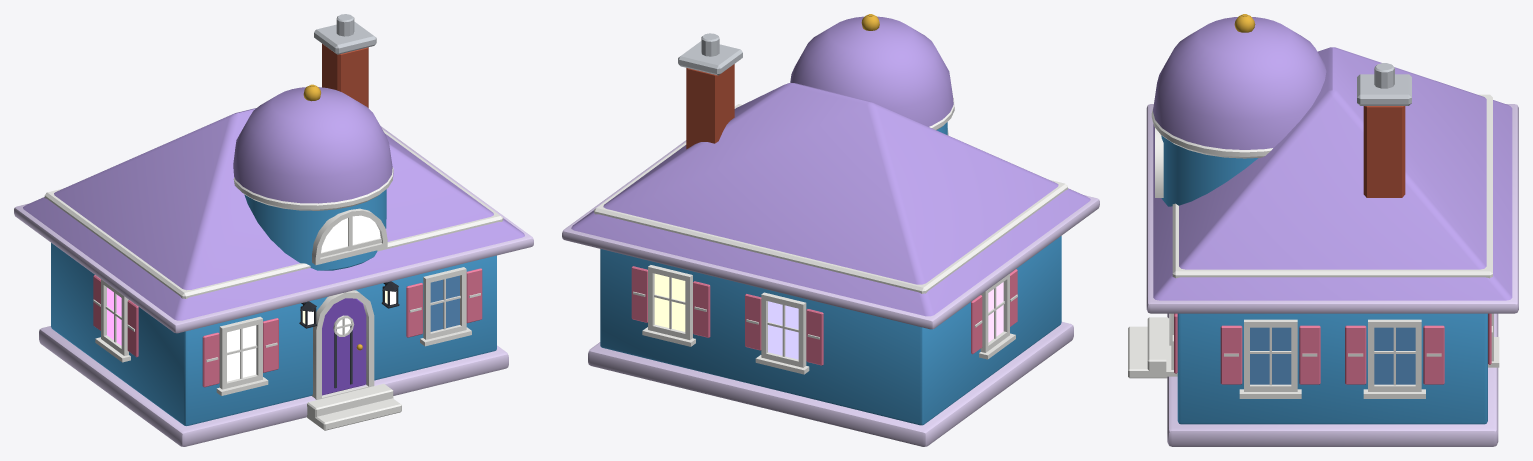
Rendered from casinha_cupula_lilas.glb.
3 renders of one model, left to right at view 1: azimuth 30°, elevation 25°; view 2: azimuth 150°, elevation 25°; view 3: azimuth 270°, elevation 25°, orthographic. The views are drawn at different scales.
Visible parts, largest first — view 1: casinha_cupula_lilas; view 2: casinha_cupula_lilas; view 3: casinha_cupula_lilas.
Part boxes in pixels (x1,y1,x2,y2): casinha_cupula_lilas: (14, 14, 533, 446); casinha_cupula_lilas: (562, 14, 1099, 446); casinha_cupula_lilas: (1128, 14, 1518, 446).
Bounding box in the file's own units: 9.2 × 7.32 × 7.56.
Materials: 6 (1 with a texture image).
